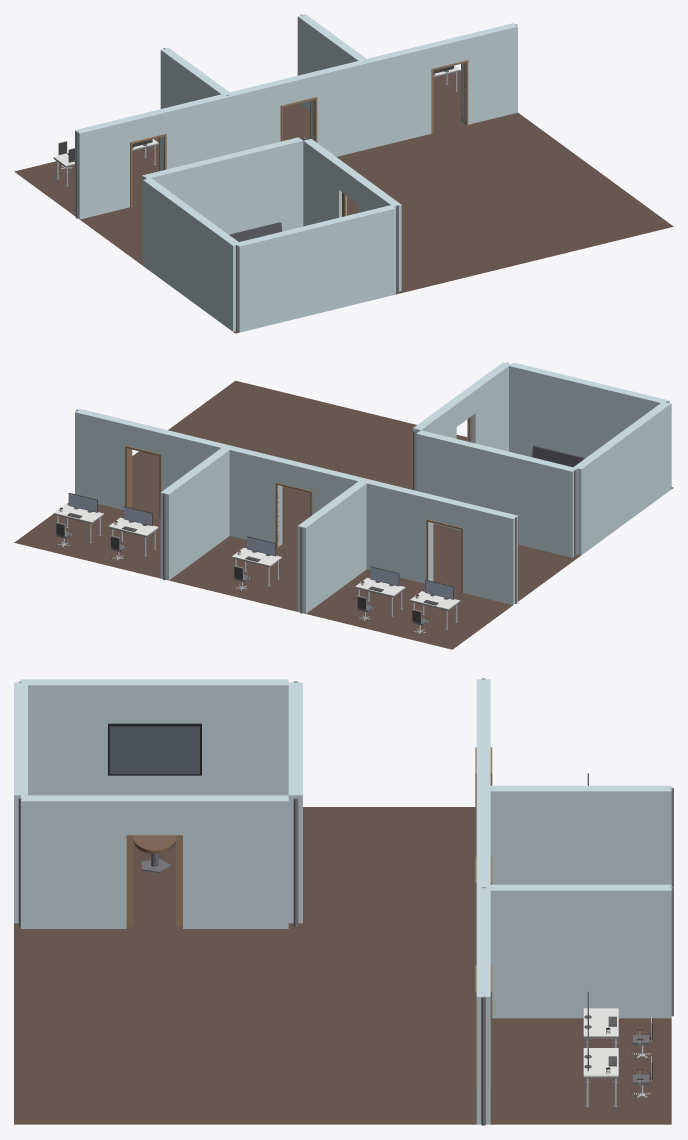
File: office_v64.glb
3 views of the same model, one above another, from view 1: azimuth 30°, elevation 25°; view 2: azimuth 150°, elevation 25°; view 3: azimuth 270°, elevation 25° (orthographic). The views are drawn at different scales.
Visible parts, largest first — view 1: 平面, MeetingRoom_South, 立方體.002, MeetingRoom_North, MeetingRoom_West, 立方體.001, 立方體.003, 立方體, MeetingRoom_East_North, 立方體.008, 立方體.007, MeetingRoom_East_South (+4 smaller); view 2: 平面, MeetingRoom_North, MeetingRoom_South, MeetingRoom_West, 立方體.001, 立方體.002, 立方體.007, 立方體.008, 立方體, 立方體.003, MeetingRoom_East_South, MeetingRoom_East_North (+5 smaller); view 3: 平面, MeetingRoom_West, 立方體.008, 立方體.007, MeetingRoom_East_North, MeetingRoom_East_South, MeetingRoom_TV_Screen, MeetingRoom_North, MeetingRoom_East_Top, MeetingRoom_South, 立方體.003, 立方體.001 (+7 smaller).
Boxes of the visible parts, bbox=[...] form: 平面: bbox=[14, 70, 673, 333]; MeetingRoom_South: bbox=[235, 205, 395, 332]; 立方體.002: bbox=[310, 44, 433, 156]; MeetingRoom_North: bbox=[142, 137, 303, 261]; MeetingRoom_West: bbox=[143, 178, 240, 331]; 立方體.001: bbox=[160, 80, 282, 170]; 立方體.003: bbox=[461, 23, 517, 124]; 立方體: bbox=[75, 117, 131, 219]; MeetingRoom_East_North: bbox=[303, 139, 346, 226]; 立方體.008: bbox=[297, 14, 366, 110]; 立方體.007: bbox=[160, 47, 229, 108]; MeetingRoom_East_South: bbox=[358, 179, 401, 291]; 平面: bbox=[14, 380, 673, 649]; MeetingRoom_North: bbox=[416, 430, 577, 557]; MeetingRoom_South: bbox=[509, 362, 669, 457]; MeetingRoom_West: bbox=[573, 401, 671, 555]; 立方體.001: bbox=[310, 466, 433, 583]; 立方體.002: bbox=[160, 429, 282, 546]; 立方體.007: bbox=[297, 481, 366, 613]; 立方體.008: bbox=[160, 448, 229, 580]; 立方體: bbox=[461, 503, 517, 604]; 立方體.003: bbox=[75, 408, 131, 509]; MeetingRoom_East_South: bbox=[467, 362, 510, 451]; MeetingRoom_East_North: bbox=[413, 402, 456, 438]; 平面: bbox=[14, 807, 671, 1124]; MeetingRoom_West: bbox=[21, 679, 288, 795]; 立方體.008: bbox=[490, 884, 671, 1018]; 立方體.007: bbox=[490, 785, 671, 884]; MeetingRoom_East_North: bbox=[183, 795, 288, 928]; MeetingRoom_East_South: bbox=[21, 795, 126, 928]; MeetingRoom_TV_Screen: bbox=[109, 726, 199, 774]; MeetingRoom_North: bbox=[288, 682, 302, 923]; MeetingRoom_East_Top: bbox=[126, 795, 182, 835]; MeetingRoom_South: bbox=[14, 682, 27, 923]; 立方體.003: bbox=[476, 959, 490, 1124]; 立方體.001: bbox=[476, 741, 490, 826].
Bounding box in the file's own units: 16.1 × 3 × 14.05.
